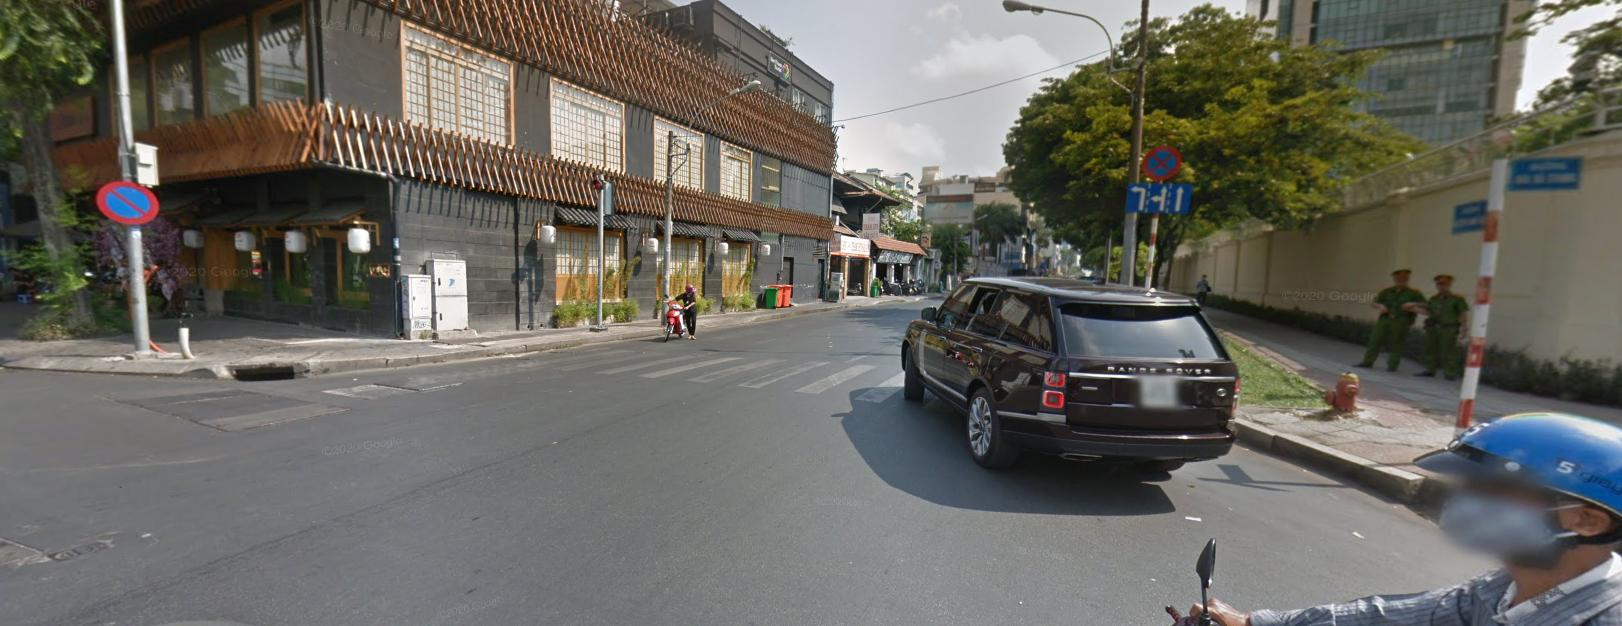Cam dung va do: (93, 173, 163, 228), (1141, 142, 1181, 180)
